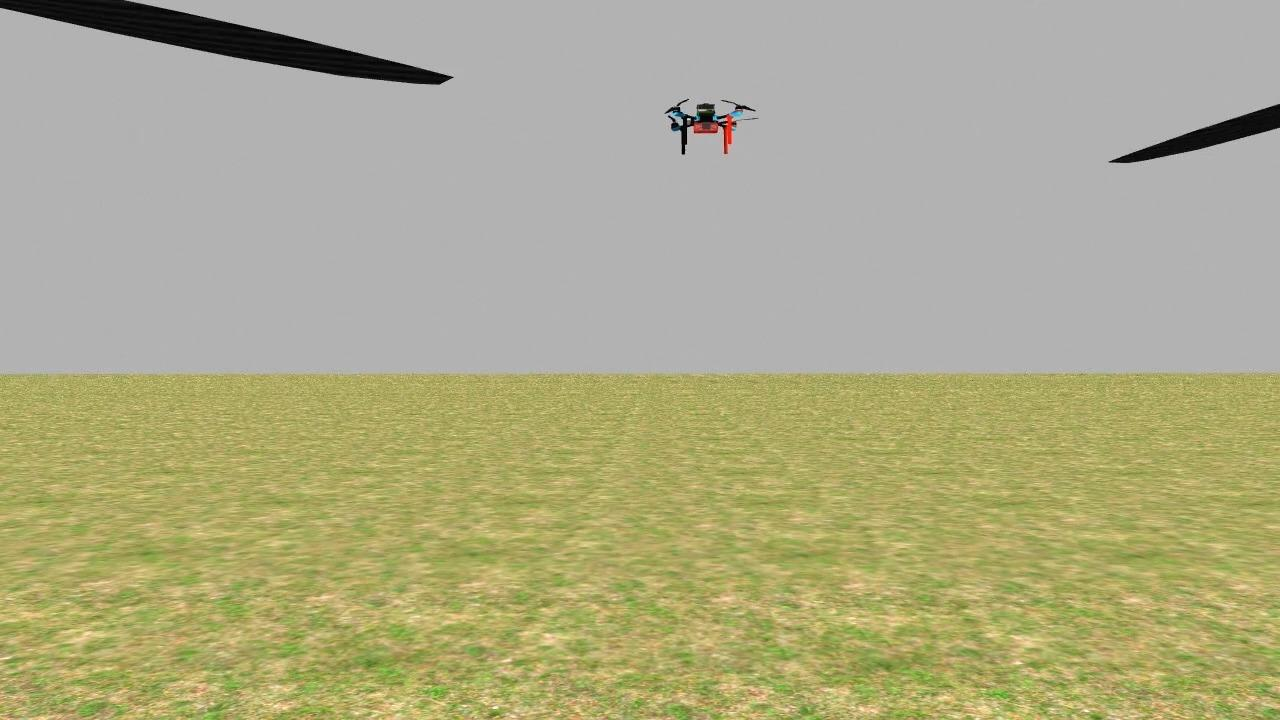UAV: (631, 74, 778, 166)
